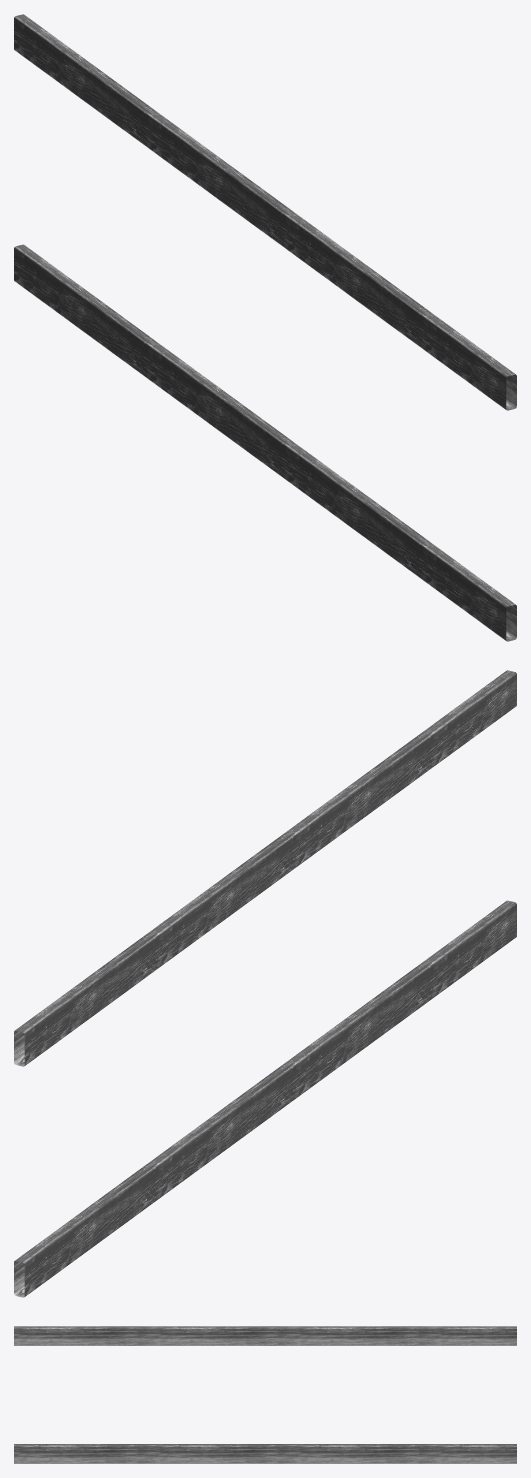
The model's file is SM_Fence_E3_Splines_35.fbx.
3 renders of one model, top to bottom at view 1: azimuth 30°, elevation 25°; view 2: azimuth 150°, elevation 25°; view 3: azimuth 270°, elevation 25°, orthographic. The views are drawn at different scales.
Visible parts, largest first — view 1: SM_Fence_E3_Splines_35; view 2: SM_Fence_E3_Splines_35; view 3: SM_Fence_E3_Splines_35.
Part boxes in pixels (left/top/right/bottom): SM_Fence_E3_Splines_35: left=14, top=14, right=516, bottom=641; SM_Fence_E3_Splines_35: left=14, top=670, right=516, bottom=1297; SM_Fence_E3_Splines_35: left=14, top=1326, right=516, bottom=1463.
Bounding box in the file's own units: 2.62 × 207 × 61.66.
1 material, 1 textured.
